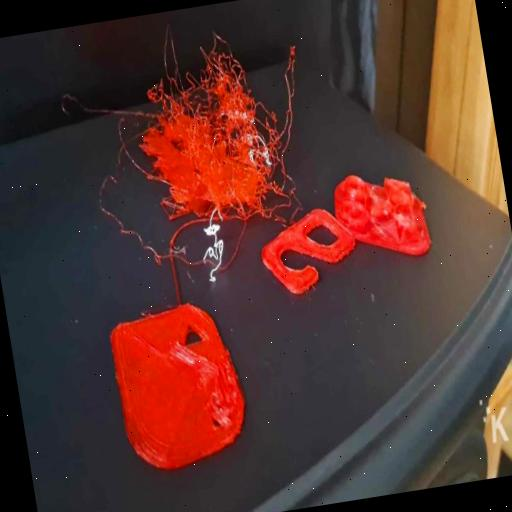spaghetti: (62, 8, 320, 248)
